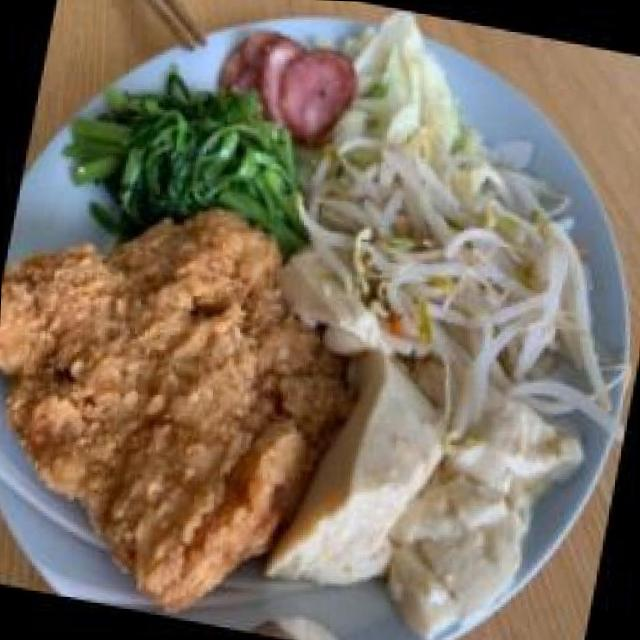chinese_cabbage: (346, 15, 496, 154)
chinese_sausage: (212, 16, 361, 136)
fried_chicken: (0, 173, 374, 629)
mung_bean_sprouts: (334, 136, 640, 413)
water_spinach: (65, 70, 318, 232)
